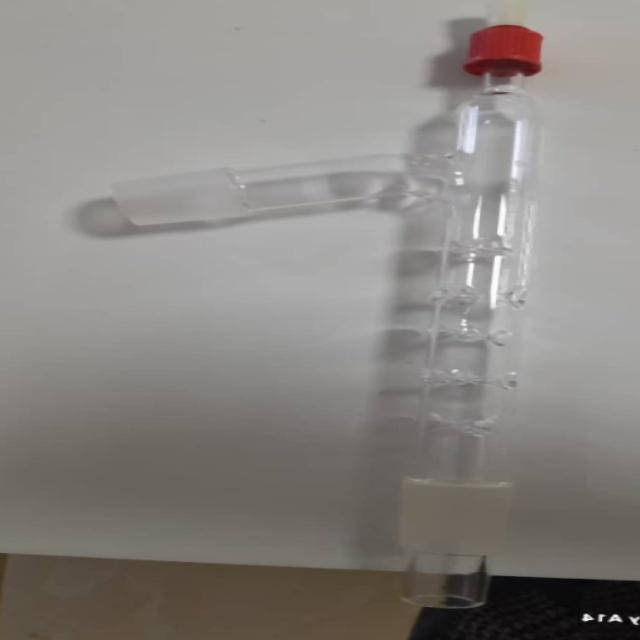Atmospherical Fractional Distillation: (66, 6, 588, 611)
